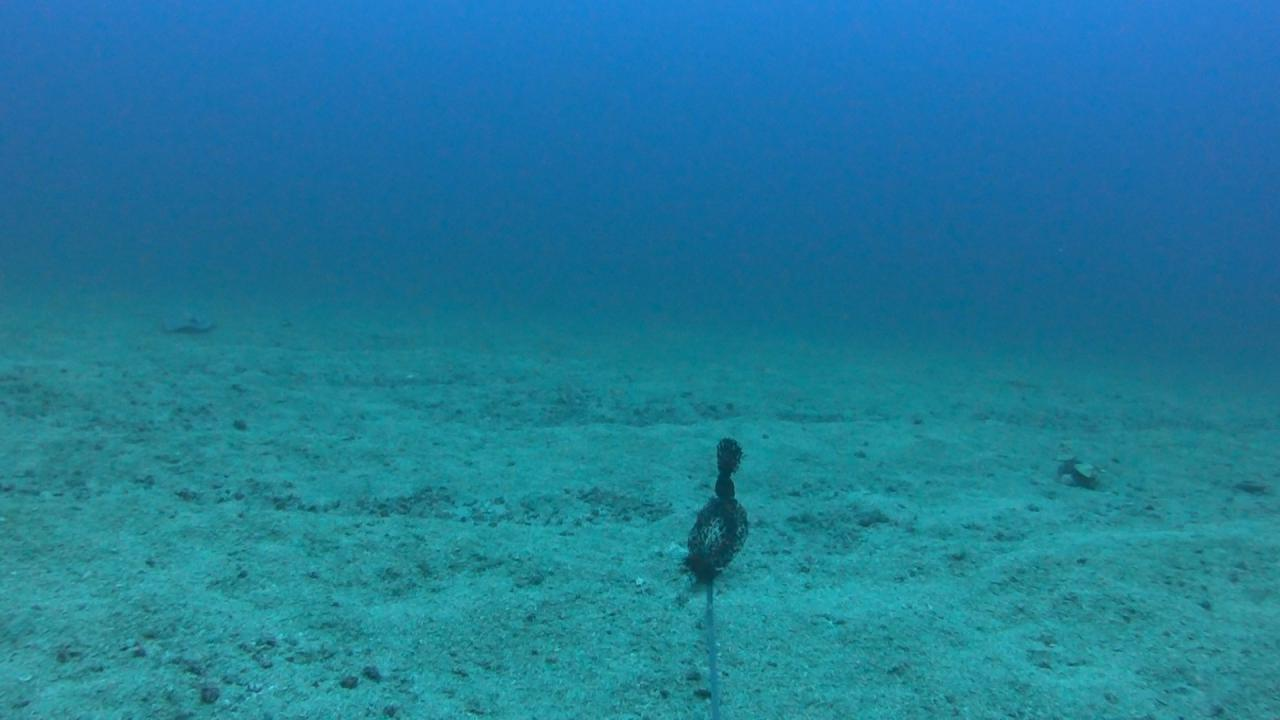dasyatis: (158, 310, 218, 334)
